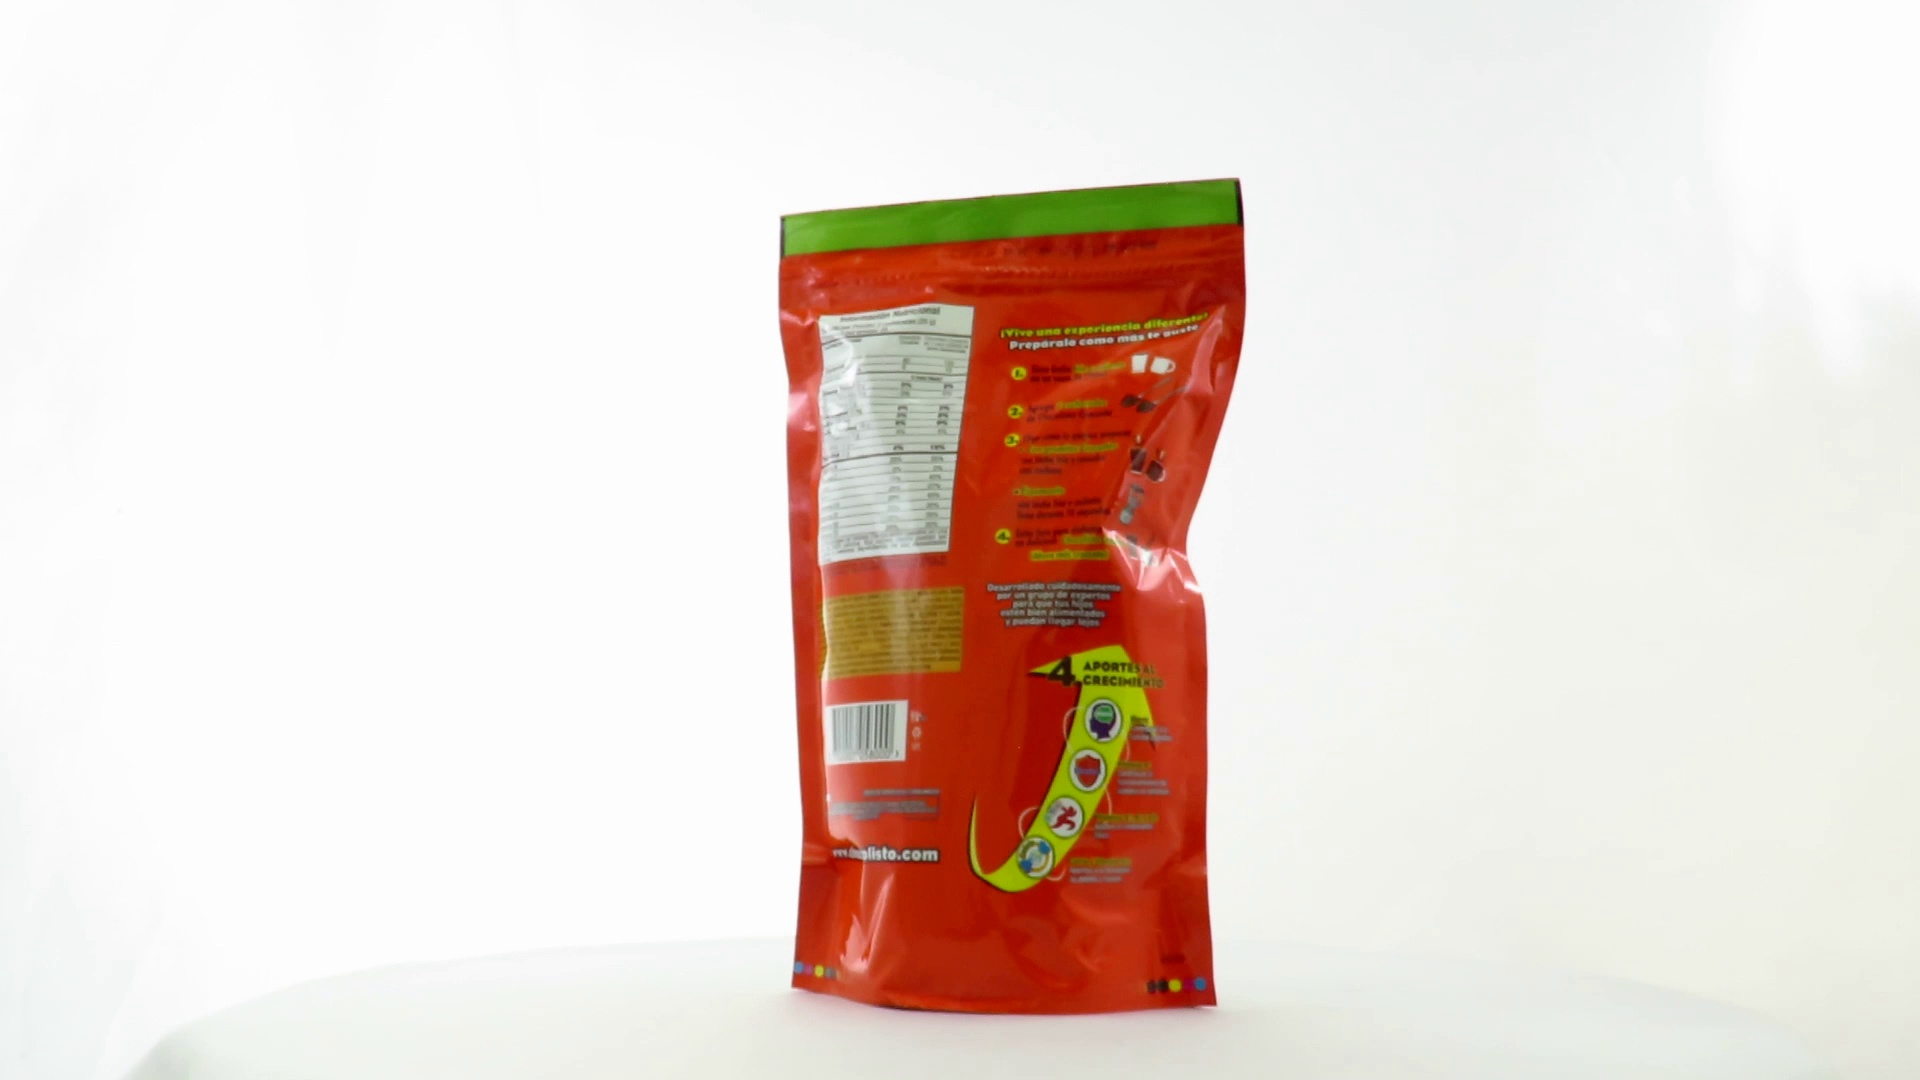COL0170102DYP50000: (773, 171, 1251, 1022)
